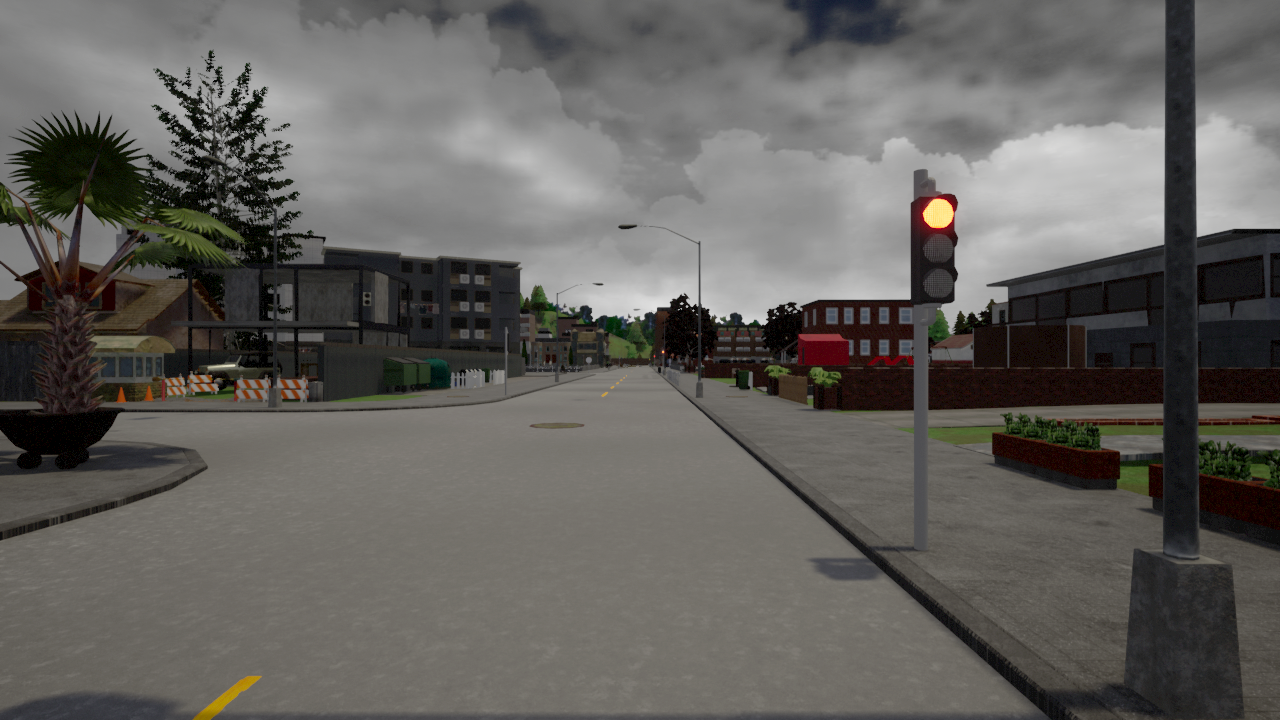red: (908, 192, 965, 303)
